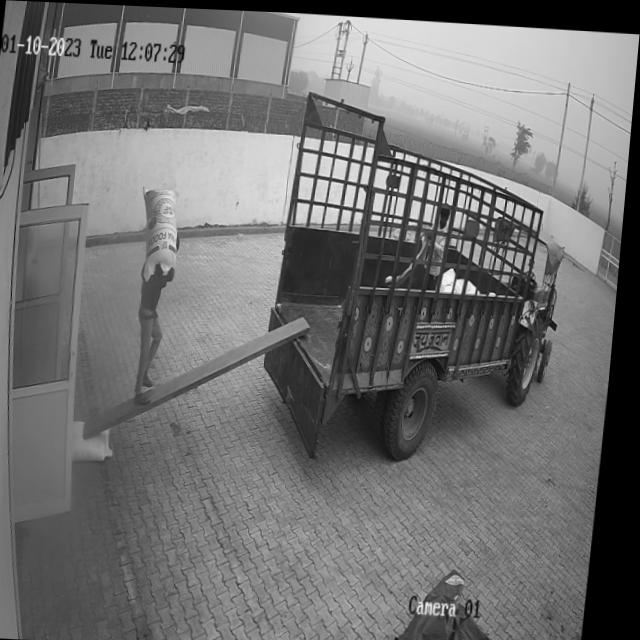sack: (136, 183, 186, 279), (75, 417, 122, 461)
